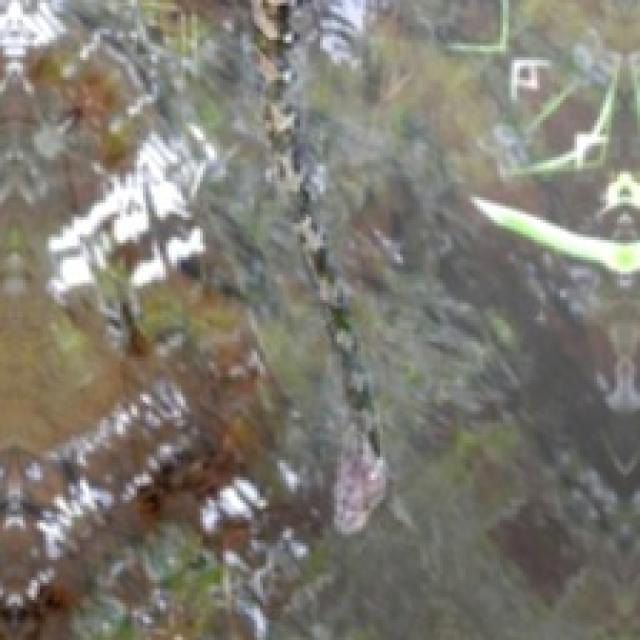reticulated python: (251, 0, 386, 531)
